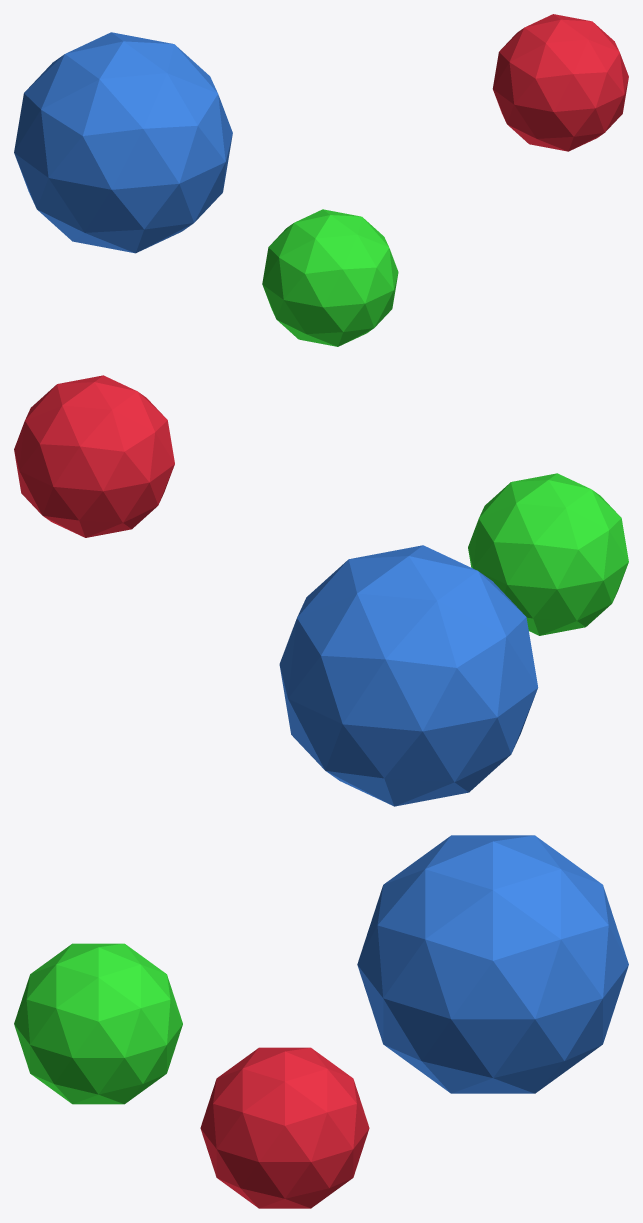
File: bvh_test_scene.gltf
3 views of the same model, one above another, from view 1: azimuth 30°, elevation 25°; view 2: azimuth 150°, elevation 25°; view 3: azimuth 270°, elevation 25° (orthographic). The views are drawn at different scales.
Parts seen in each view (by area): view 1: Icosphere.001, Icosphere, Icosphere.002; view 2: Icosphere.001, Icosphere, Icosphere.002; view 3: Icosphere.001, Icosphere.002, Icosphere.
Part boxes in pixels (<box>): Icosphere.001: <box>14,32,232,253</box>; Icosphere: <box>492,14,628,151</box>; Icosphere.002: <box>262,209,398,346</box>; Icosphere.001: <box>279,545,538,806</box>; Icosphere: <box>14,375,174,537</box>; Icosphere.002: <box>468,473,628,635</box>; Icosphere.001: <box>357,835,628,1093</box>; Icosphere.002: <box>14,943,182,1104</box>; Icosphere: <box>200,1047,369,1208</box>.
Bounding box in the file's own units: 8.31 × 3.21 × 7.27.
